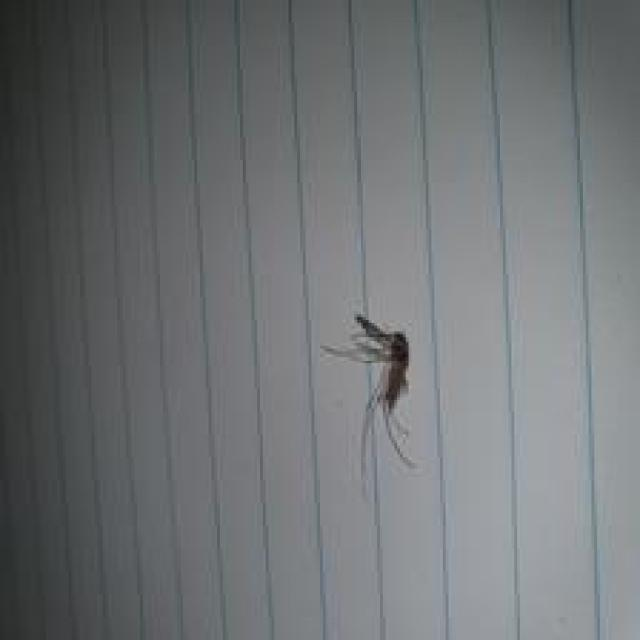Culex: (318, 313, 418, 481)
